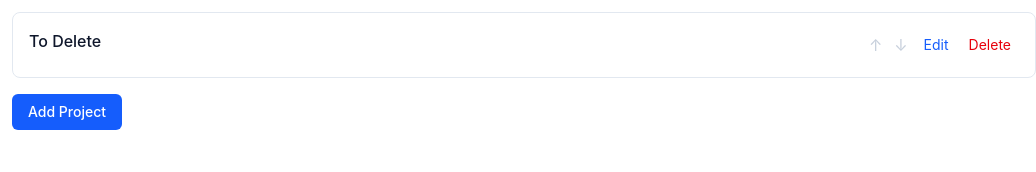
Scenario: ProjectSection › deletes a project
Expected: the heading "To Delete" is shown, [29,31,101,51]
What coordinates should you click on to do the following:
click the button "Delete"
I would click on:
 (990, 45)
Its box is [961,31,1019,59].
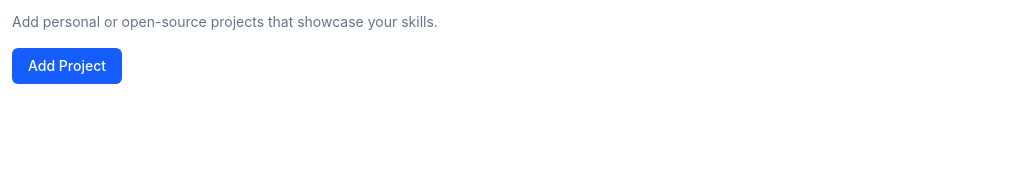
Expected: the heading "To Delete" is gone
Expected: the text "Add personal or open-source projects that showcase your skills" is shown, [12,13,438,30]
